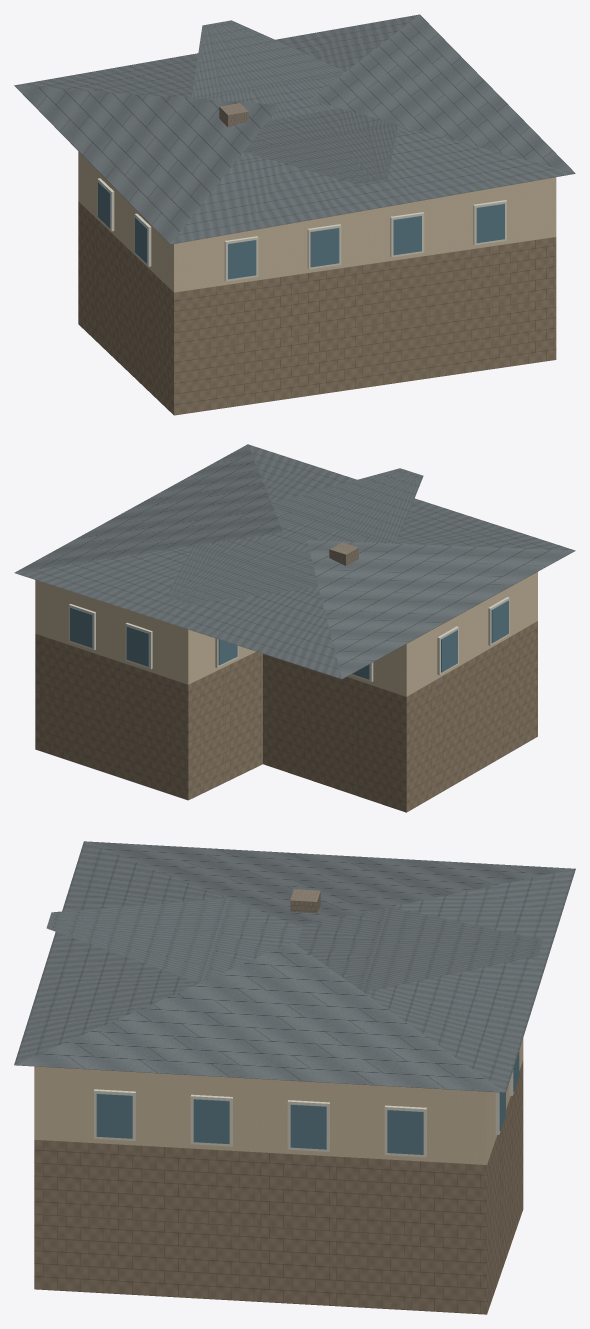
File: core_0010.gltf
3 renders of one model, top to bottom at view 1: azimuth 30°, elevation 25°; view 2: azimuth 150°, elevation 25°; view 3: azimuth 270°, elevation 25°, orthographic. The views are drawn at different scales.
Parts seen in each view (by area): view 1: core_0010; view 2: core_0010; view 3: core_0010.
Part boxes in pixels (left/top/right/bottom): core_0010: left=14, top=14, right=575, bottom=415; core_0010: left=14, top=444, right=575, bottom=812; core_0010: left=14, top=841, right=575, bottom=1314.
Bounding box in the file's own units: 16.36 × 8.15 × 15.46.
Materials: 6 (6 with a texture image).
